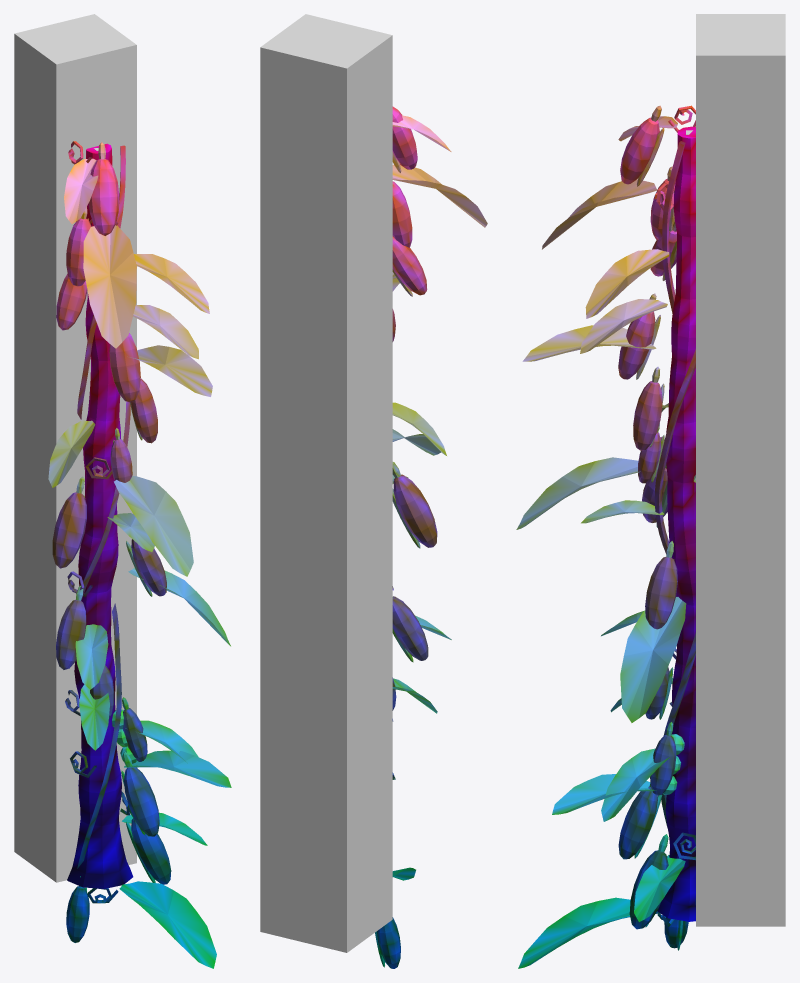
The model's file is Plant_Ladder_02.fbx.
3 renders of one model, left to right at view 1: azimuth 30°, elevation 25°; view 2: azimuth 150°, elevation 25°; view 3: azimuth 270°, elevation 25°, orthographic. The views are drawn at different scales.
Visible parts, largest first — view 1: Plant_Ladder_02, CLIMB_0; view 2: CLIMB_0, Plant_Ladder_02; view 3: CLIMB_0, Plant_Ladder_02.
Part boxes in pixels (<box>): Plant_Ladder_02: <box>48,141,231,968</box>; CLIMB_0: <box>14,14,136,882</box>; CLIMB_0: <box>260,14,392,952</box>; Plant_Ladder_02: <box>375,106,487,968</box>; CLIMB_0: <box>696,14,785,926</box>; Plant_Ladder_02: <box>516,105,695,968</box>.
Size of the model in its own units: 2.36 by 11.42 by 3.
